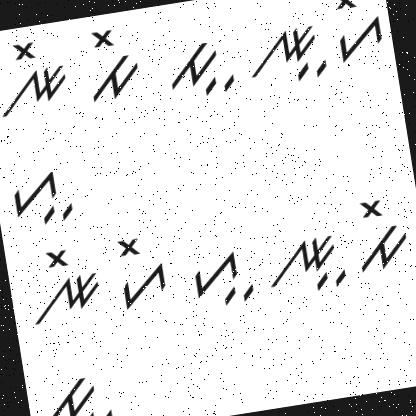hah: (2, 156, 79, 235), (183, 238, 258, 312)
ho: (110, 230, 174, 312), (324, 0, 388, 65)
mbah: (158, 30, 240, 102), (34, 362, 122, 416)
mbo: (74, 21, 146, 106), (347, 190, 415, 275)
ndah: (255, 225, 349, 302), (236, 19, 330, 94)
ndo: (17, 238, 108, 328), (0, 34, 73, 119)
